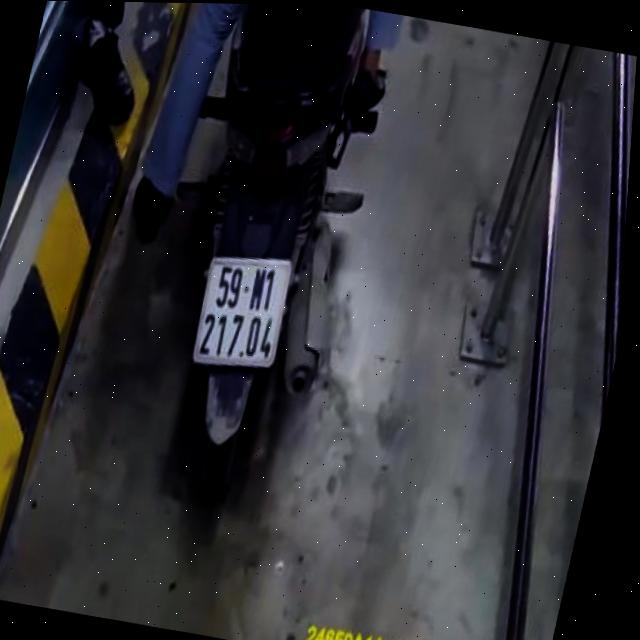motorcycle: (115, 2, 408, 520)
plate: (184, 244, 299, 380)
